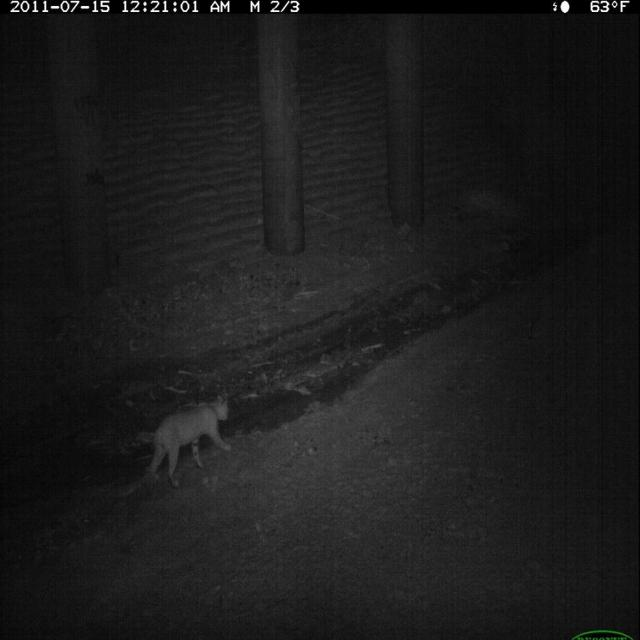bobcat: (146, 390, 236, 497)
